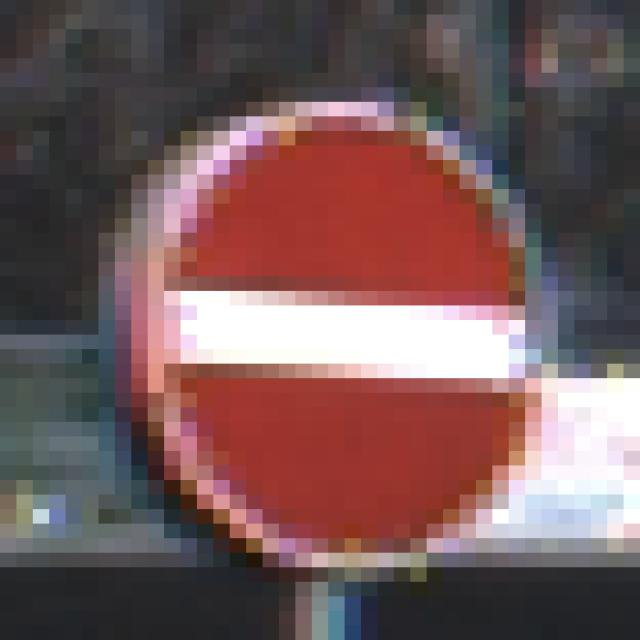No Entry: (99, 89, 559, 569)
